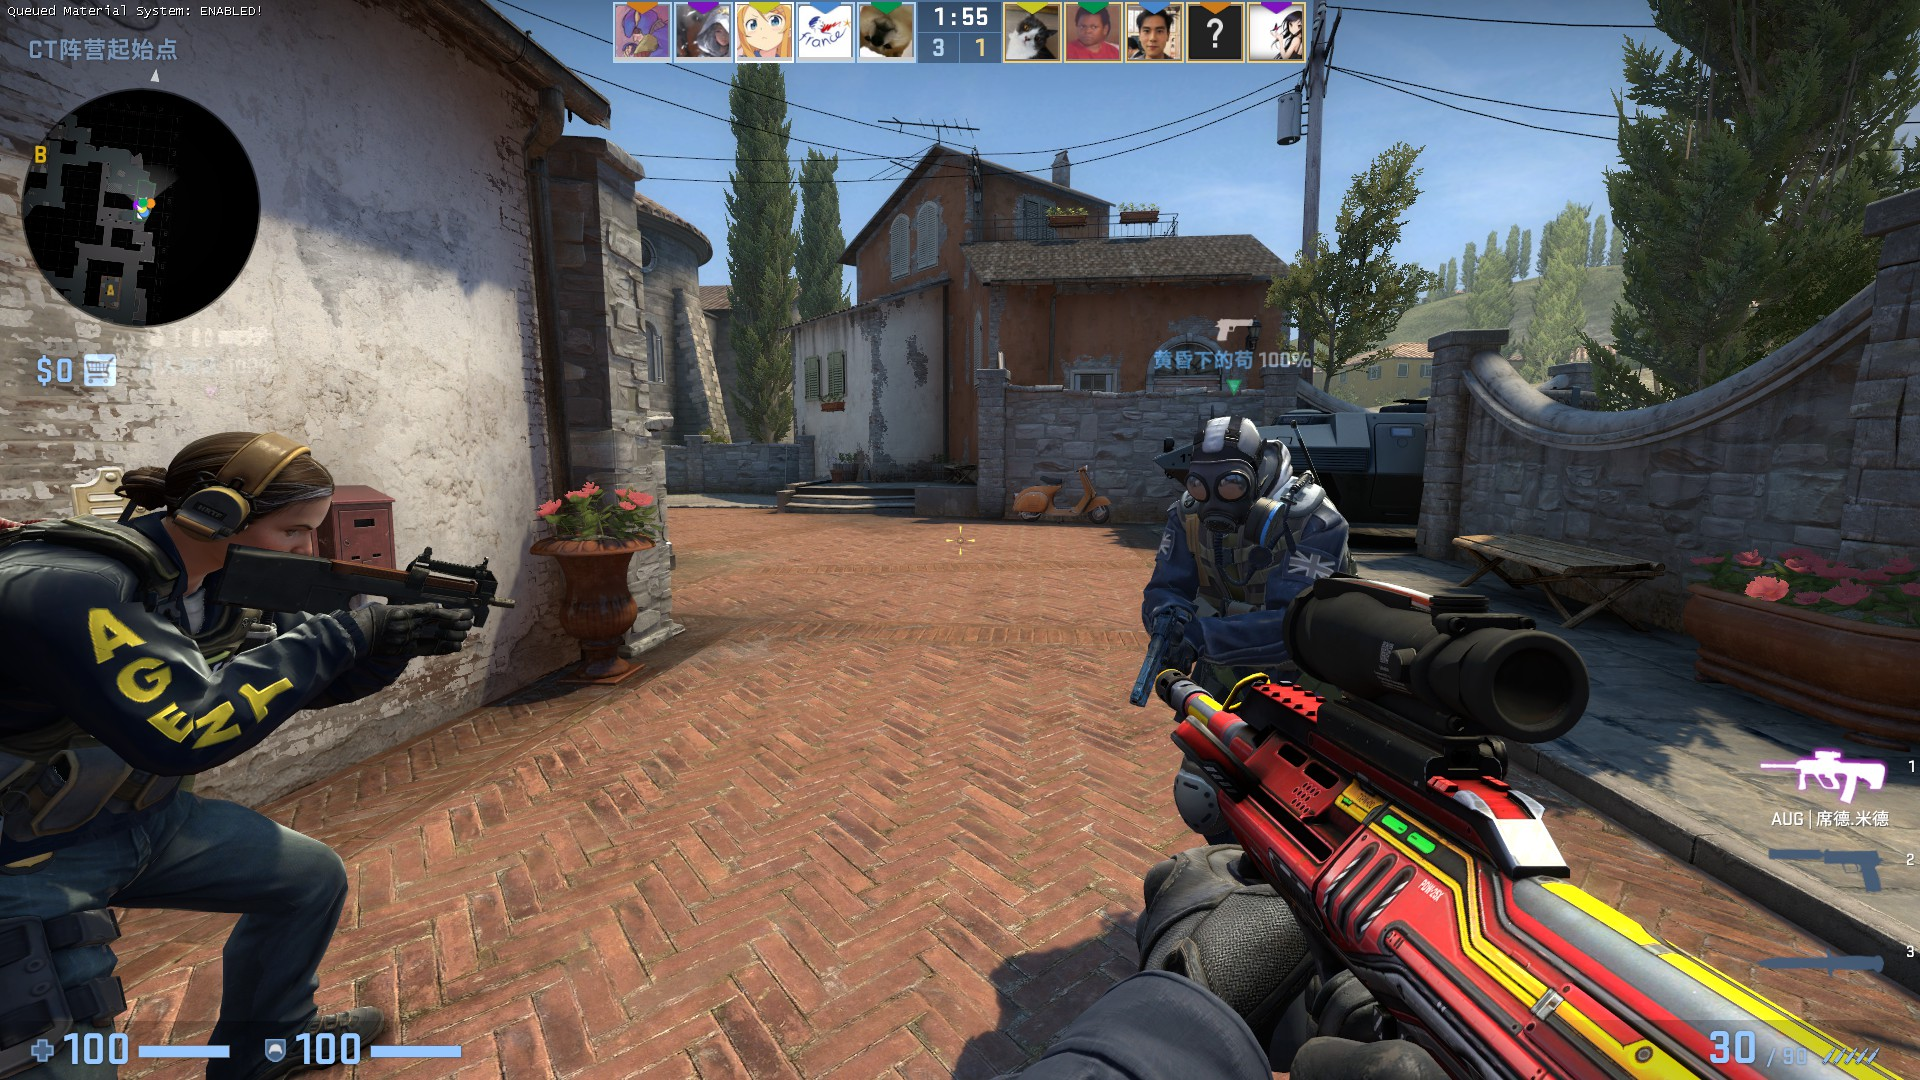head: (138, 429, 340, 574), (1183, 412, 1275, 529)
